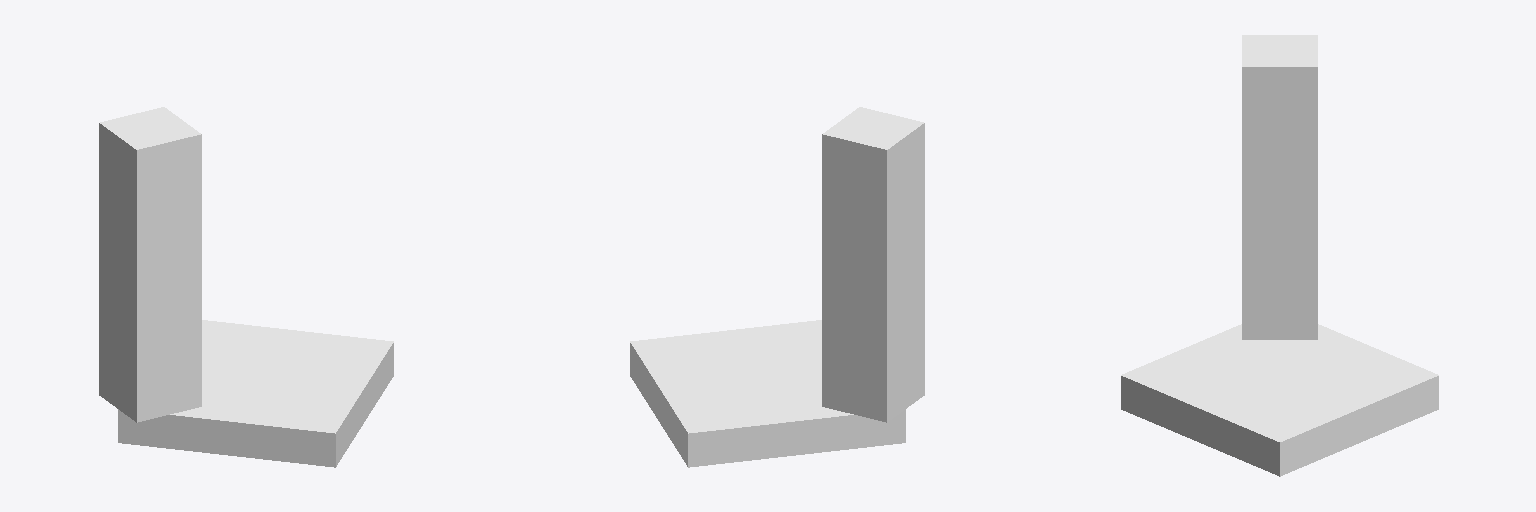
File: swan_standing_right_leg.obj
3 renders of one model, left to right at view 1: azimuth 30°, elevation 25°; view 2: azimuth 150°, elevation 25°; view 3: azimuth 270°, elevation 25°, orthographic.
Parts seen in each view (by area): view 1: Element #4, Element #5; view 2: Element #4, Element #5; view 3: Element #5, Element #4.
Boxes of the visible parts, box(x1,y1,x2,y2) form: Element #4: box(99, 107, 201, 422); Element #5: box(118, 320, 393, 467); Element #4: box(822, 107, 924, 422); Element #5: box(630, 320, 905, 467); Element #5: box(1121, 324, 1438, 476); Element #4: box(1242, 35, 1317, 339).
Bounding box in the file's own units: 4.24 × 4.5 × 4.24.